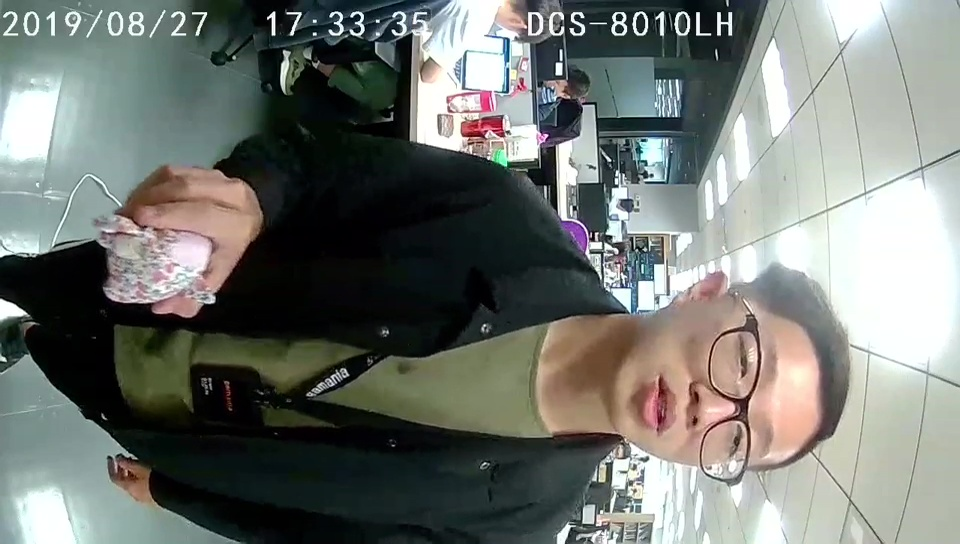pig: (97, 212, 216, 306)
